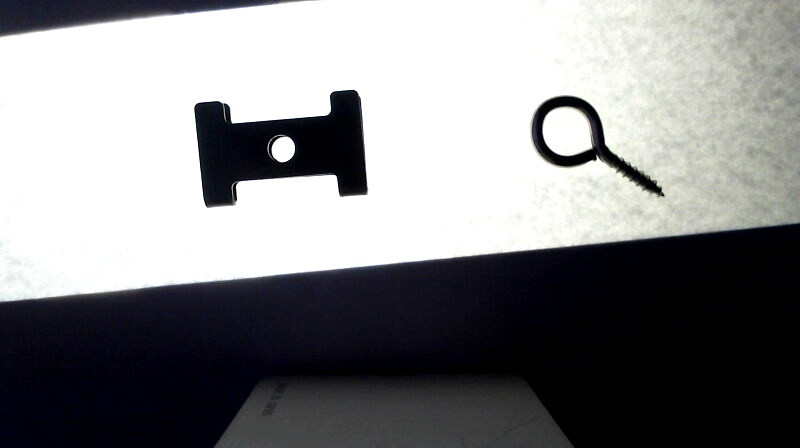O001: (531, 94, 668, 200)
O002: (192, 88, 370, 207)
